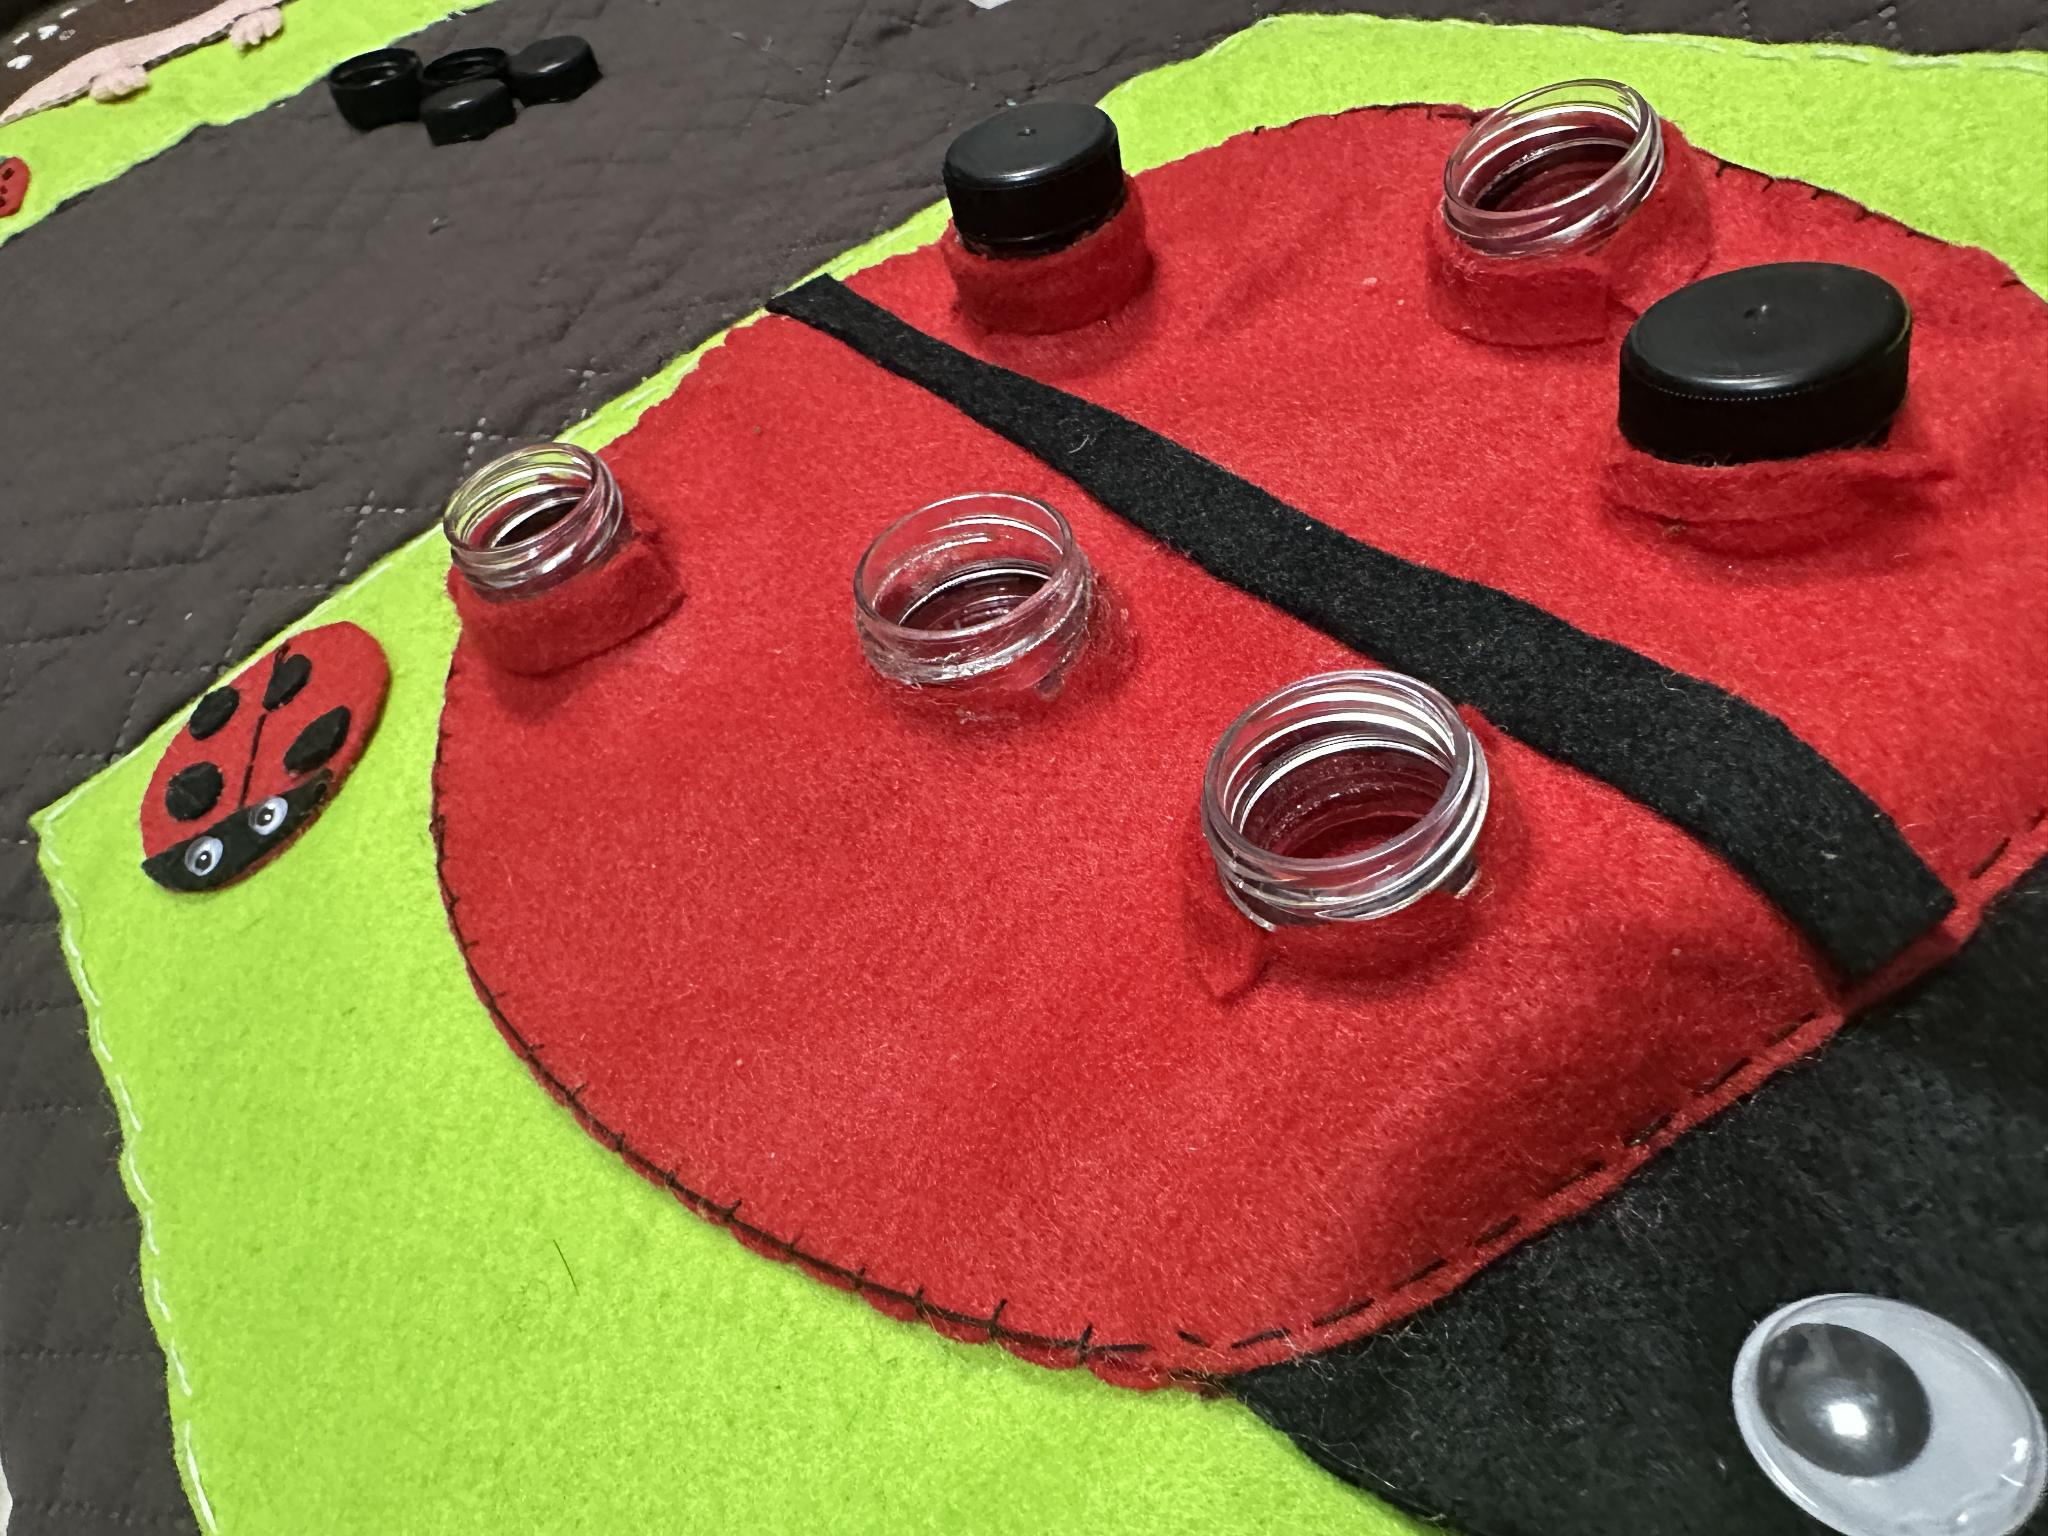cap_ok: (1613, 234, 1942, 523), (934, 87, 1164, 331)
